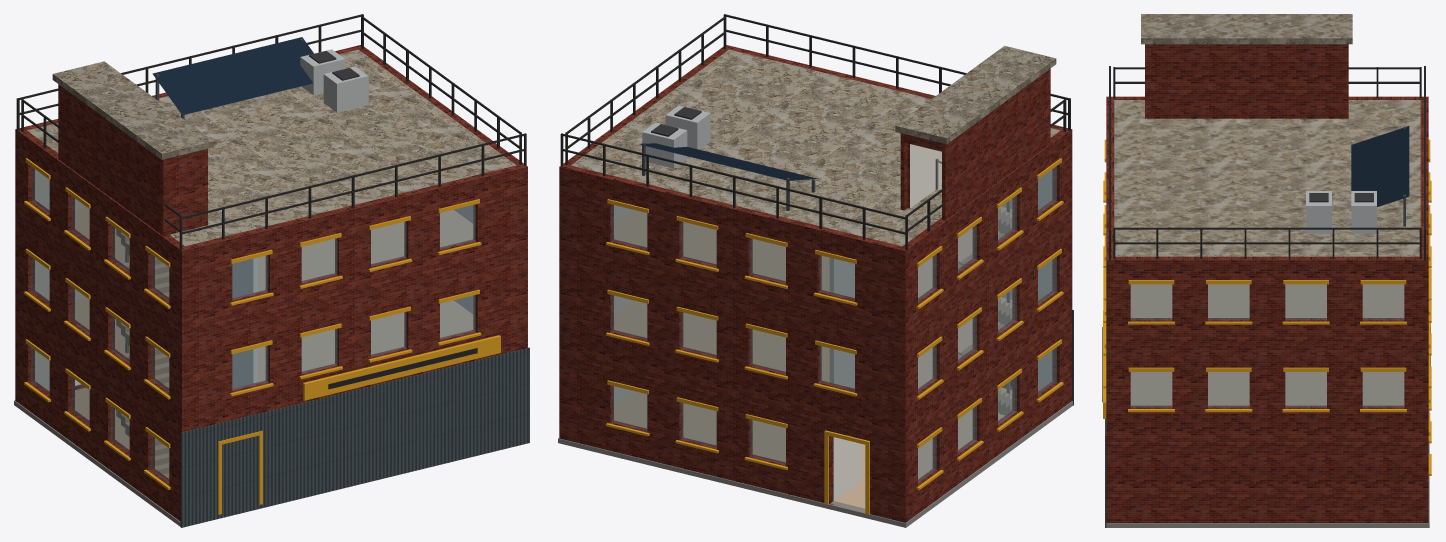
Rendered from mh-garage-flats.towns-v1.lod0.glb.
3 views of the same model, side by side, from view 1: azimuth 30°, elevation 25°; view 2: azimuth 150°, elevation 25°; view 3: azimuth 270°, elevation 25° (orthographic). The views are drawn at different scales.
Visible parts, largest first — view 1: mh-garage-flats; view 2: mh-garage-flats; view 3: mh-garage-flats.
Boxes of the visible parts, x1=… form: mh-garage-flats: x1=14, y1=14, x2=529, y2=527; mh-garage-flats: x1=558, y1=14, x2=1073, y2=527; mh-garage-flats: x1=1102, y1=14, x2=1431, y2=527.
Size of the model in its own units: 12.18 by 11.95 by 10.21.
7 materials, 3 textured.
